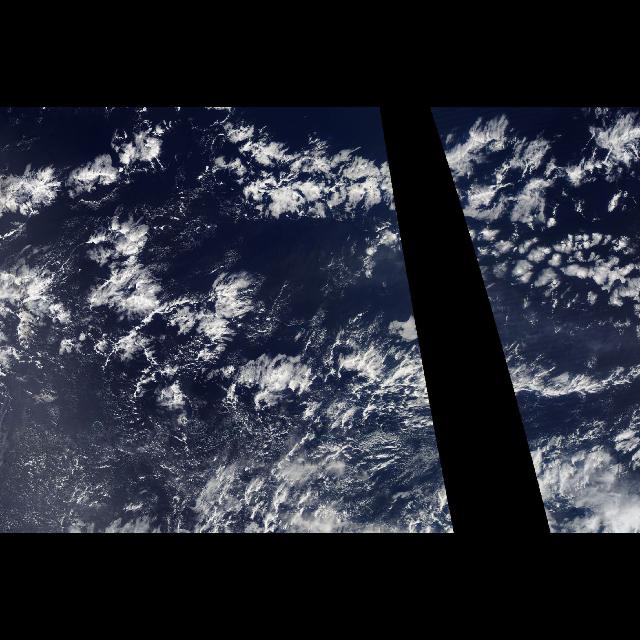Fish: (0, 255, 438, 445), (192, 109, 404, 244), (493, 319, 632, 445), (429, 109, 527, 244)
Flower: (434, 122, 640, 358), (2, 123, 400, 223), (349, 230, 416, 314)
Sugar: (0, 357, 232, 525)
